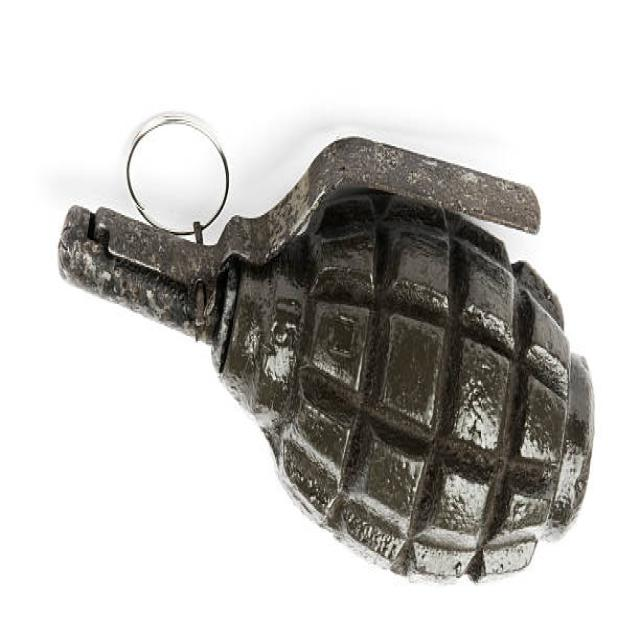grenade: (55, 113, 597, 591)
